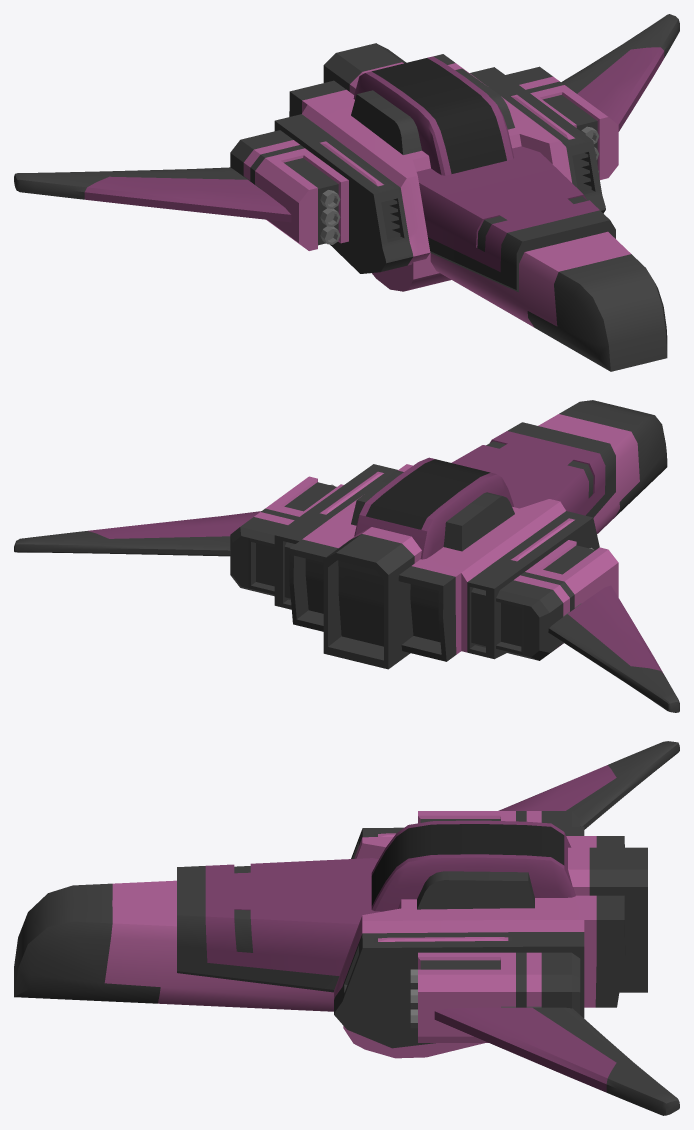
File: Spaceship Fernando The Flamingo.glb
The picture shows the model from 3 angles, top to bottom: view 1: azimuth 30°, elevation 25°; view 2: azimuth 150°, elevation 25°; view 3: azimuth 270°, elevation 25°; orthographic projection. The views are drawn at different scales.
Visible parts, largest first — view 1: Spaceship_FernandoTheFlamingo; view 2: Spaceship_FernandoTheFlamingo; view 3: Spaceship_FernandoTheFlamingo.
Part boxes in pixels (box(x1,y1,x2,y2)): Spaceship_FernandoTheFlamingo: box(14, 14, 679, 371); Spaceship_FernandoTheFlamingo: box(14, 400, 679, 712); Spaceship_FernandoTheFlamingo: box(14, 741, 679, 1115).
Bounding box in the file's own units: 11.14 × 2.53 × 8.66.
1 material, 1 textured.
